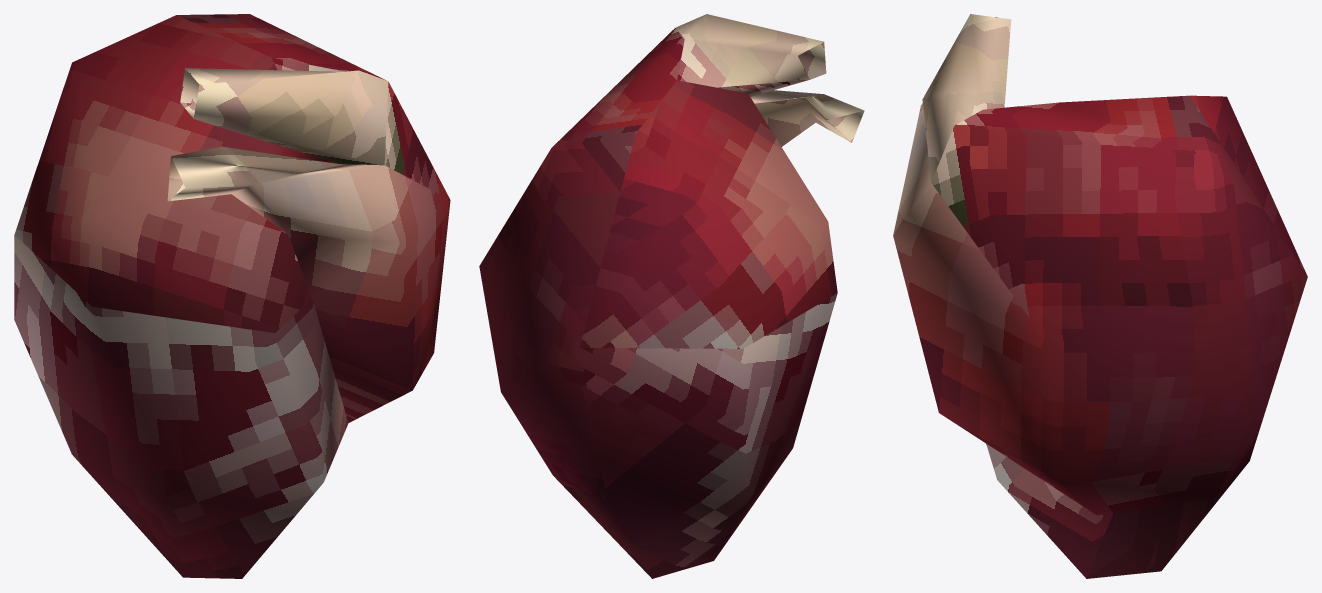
File: eqp_organ_heart_s02_l3.fbx
The picture shows the model from 3 angles, left to right: view 1: azimuth 30°, elevation 25°; view 2: azimuth 150°, elevation 25°; view 3: azimuth 270°, elevation 25°; orthographic projection. The views are drawn at different scales.
Visible parts, largest first — view 1: mesh_node; view 2: mesh_node; view 3: mesh_node.
Part boxes in pixels (x1,y1,x2,y2): mesh_node: [14, 14, 450, 578]; mesh_node: [479, 14, 864, 578]; mesh_node: [893, 14, 1307, 578].
Bounding box in the file's own units: 0.0827 × 0.126 × 0.0915.
